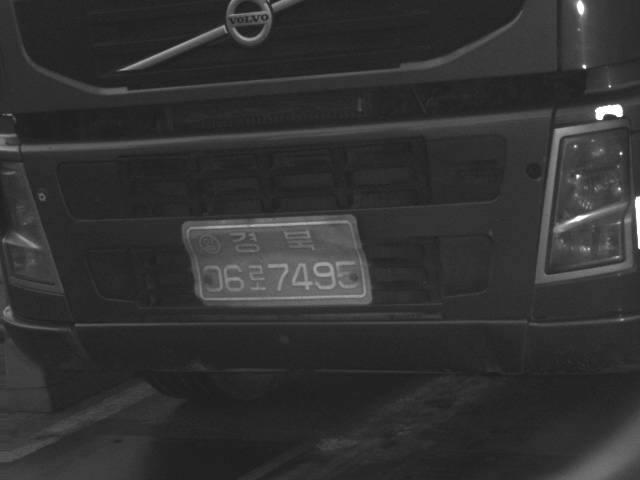car: (1, 1, 639, 401)
plate: (181, 214, 374, 307)
